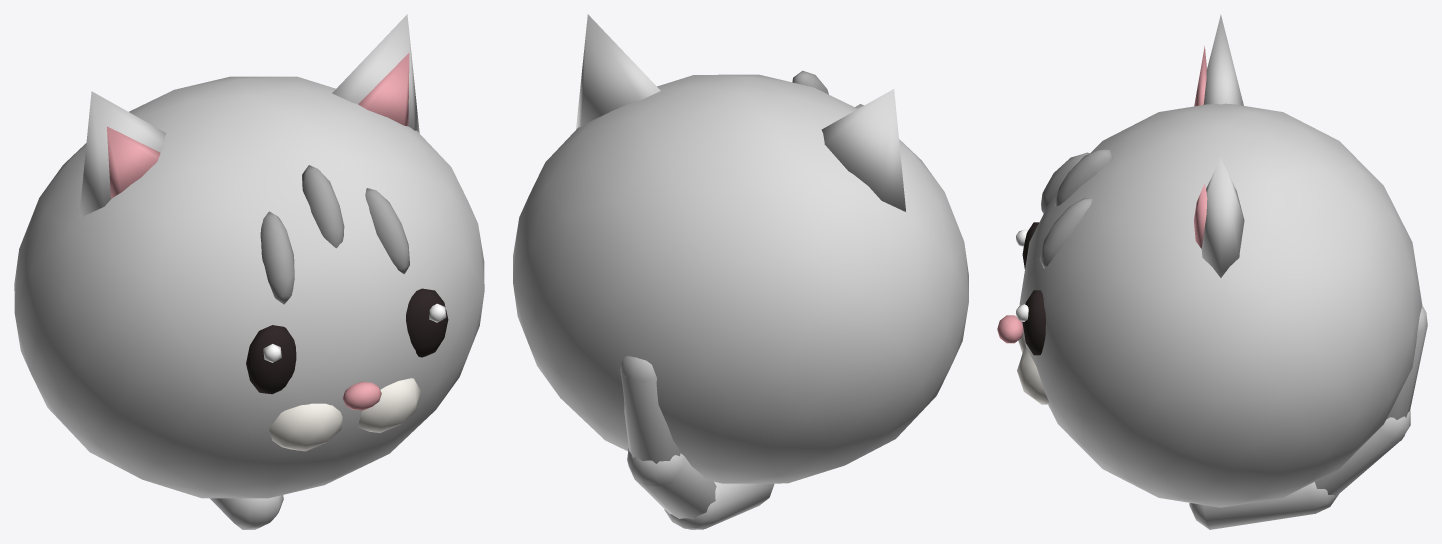
File: animal.cat.glb
3 renders of one model, left to right at view 1: azimuth 30°, elevation 25°; view 2: azimuth 150°, elevation 25°; view 3: azimuth 270°, elevation 25°, orthographic. The views are drawn at different scales.
Visible parts, largest first — view 1: head, tabby, tail; view 2: head, tail; view 3: head, tail, tabby.
Boxes of the visible parts, x1,y1,x2,y2 form: head: (14,14,484,498); tabby: (260,165,409,304); tail: (210,495,283,529); head: (513,14,968,483); tail: (620,356,774,529); head: (997,14,1422,507); tail: (1189,306,1427,529); tabby: (1039,149,1112,268).
Bounding box in the file's own units: 0.51 × 0.5441 × 0.481.
